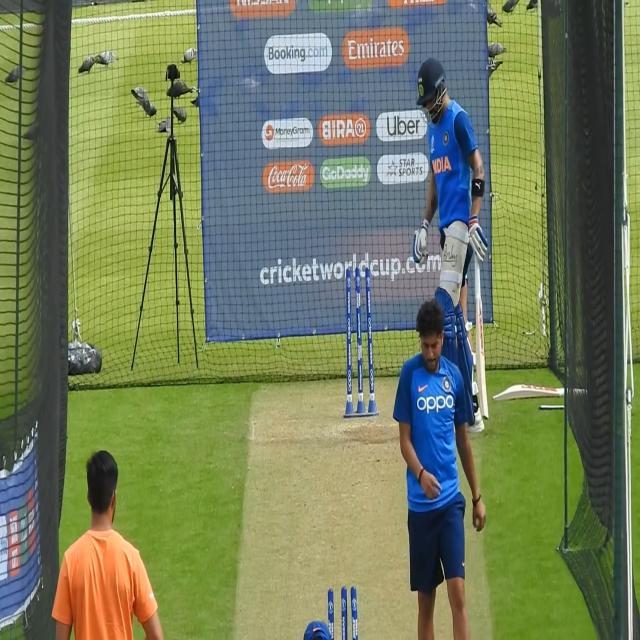stump: (344, 264, 378, 419)
